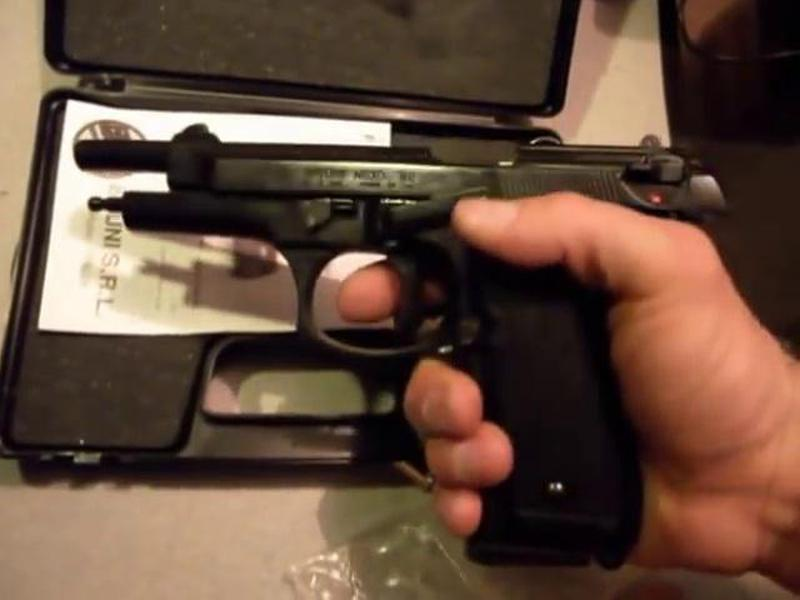Pistola: (79, 114, 728, 580)
